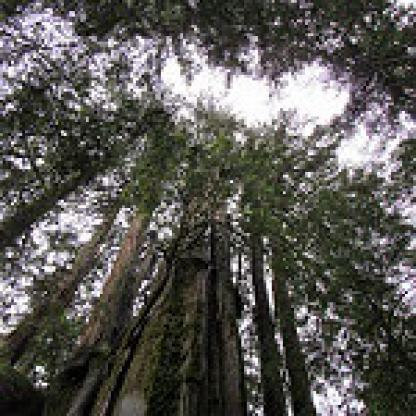tree: (53, 114, 188, 413), (122, 100, 250, 413), (297, 130, 413, 414), (266, 111, 324, 413), (236, 111, 288, 413)
